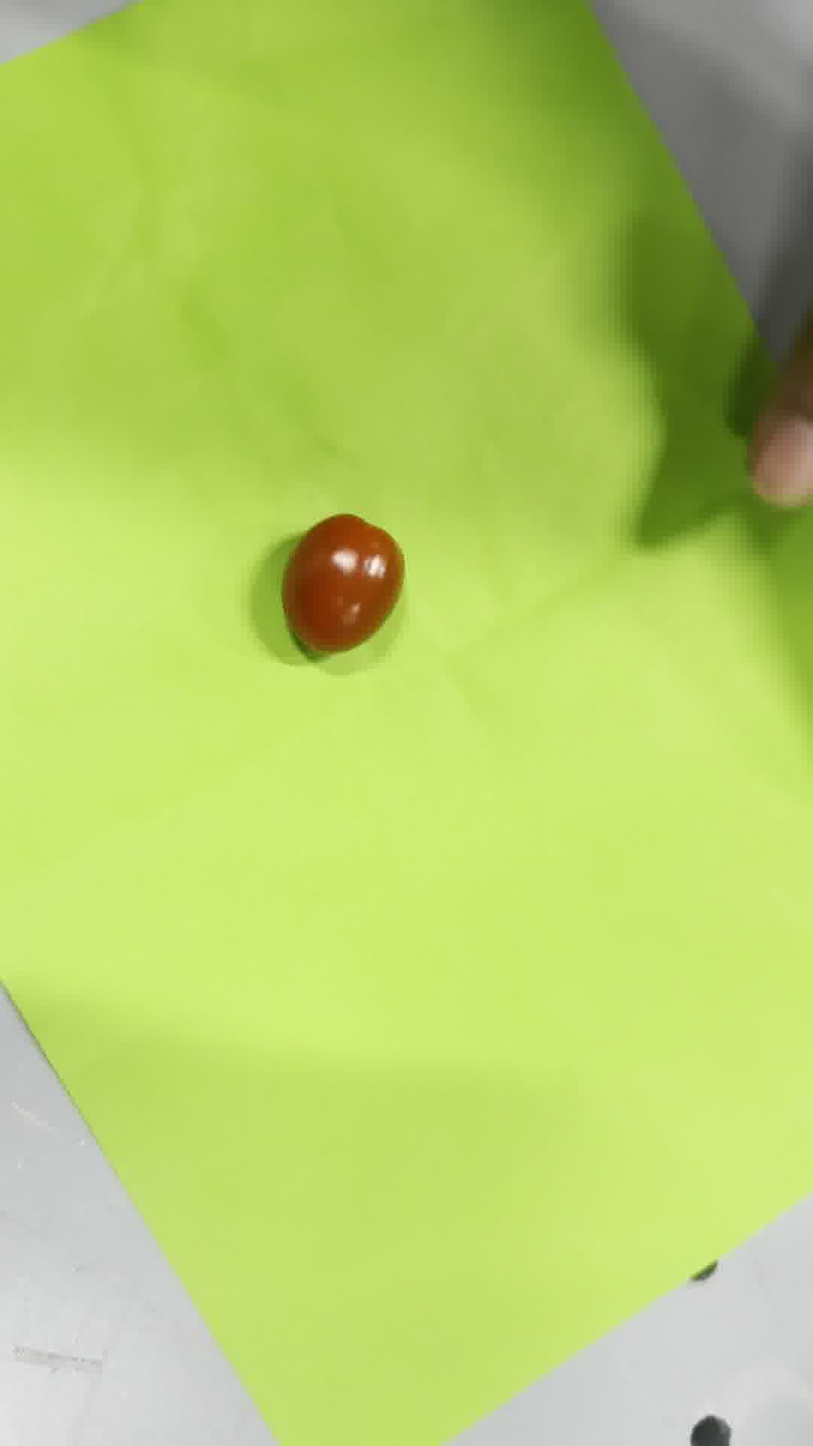red_cherry_tomato: (282, 514, 404, 654)
